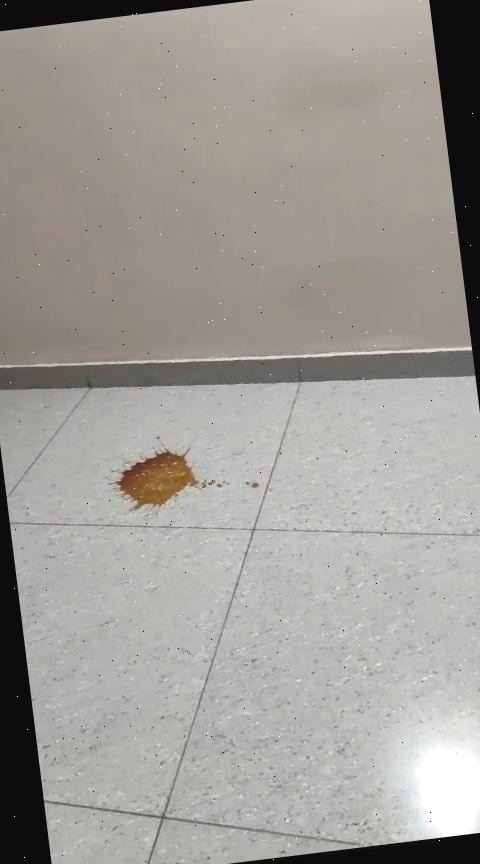dirty_floor: (100, 433, 258, 523)
